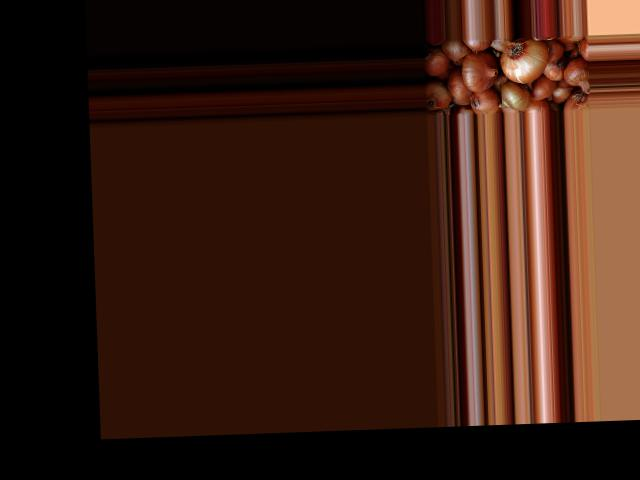onion: (423, 80, 450, 108)
